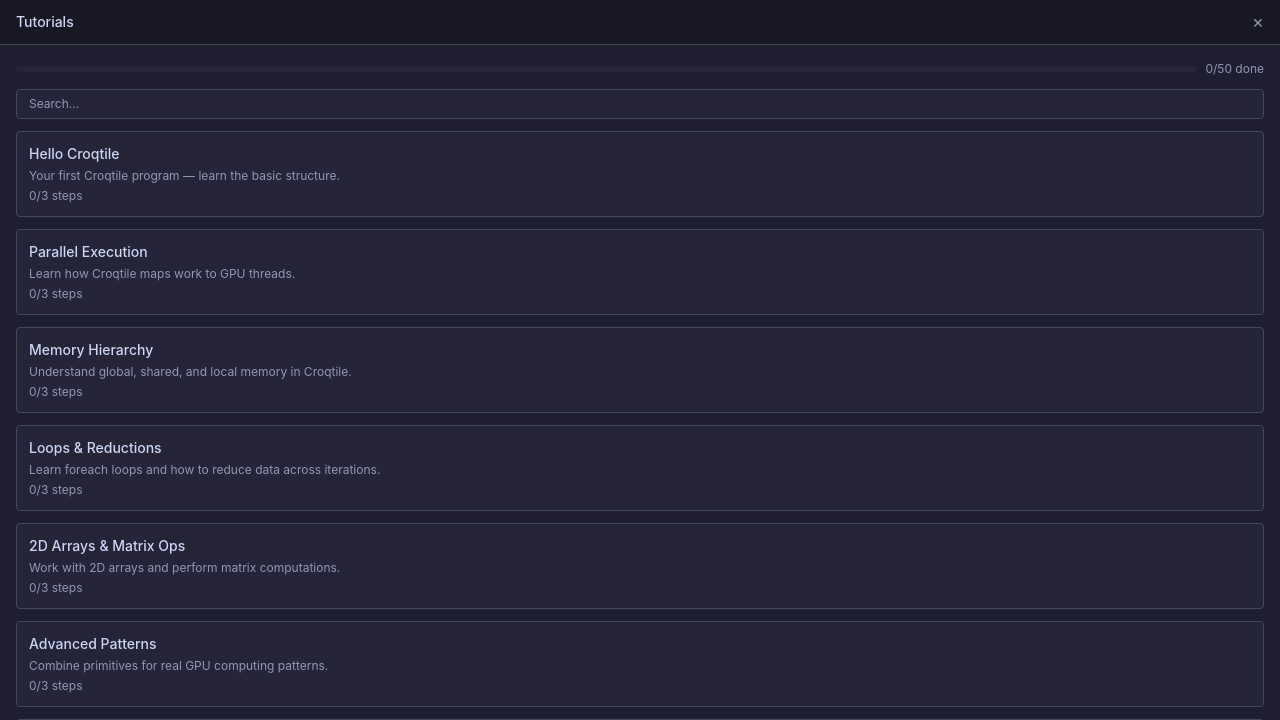
TutorialPanel › shows step navigation after selecting tutorial
Click the text "Hello Croqtile" at (74, 154), box 29,144 -> 120,164
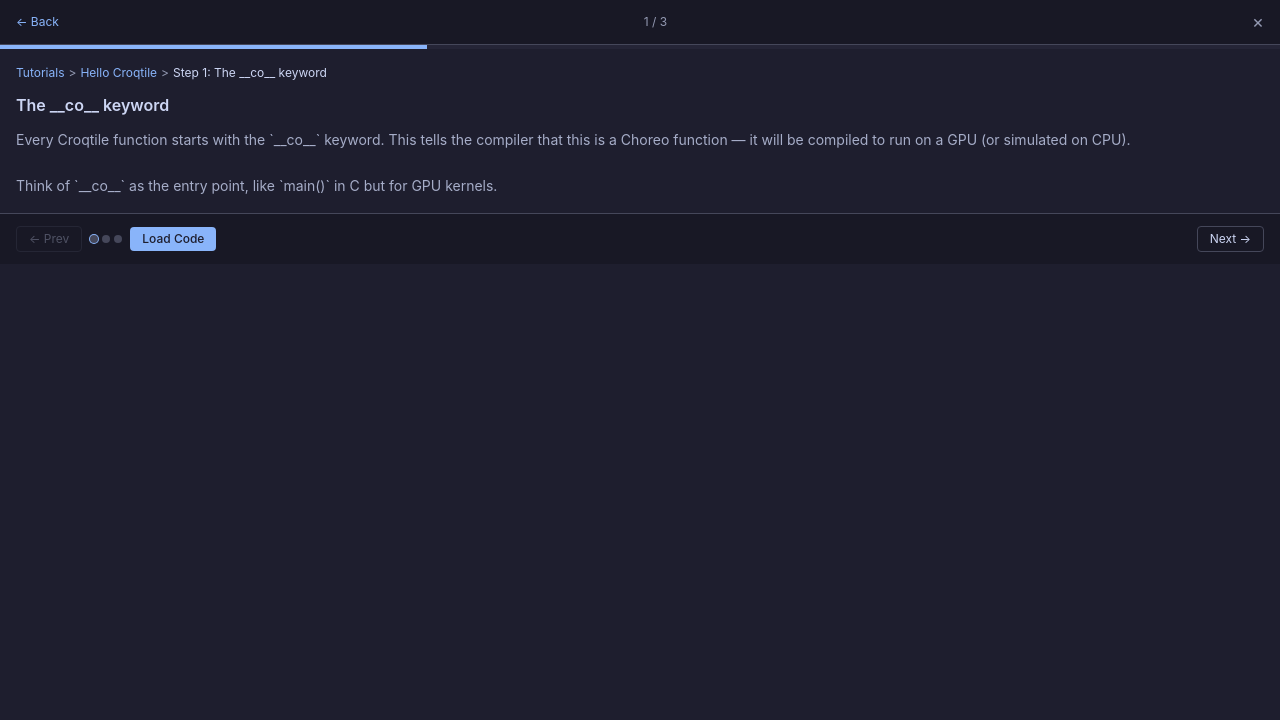
Expected: the button "← Back" is shown, 16,14 -> 59,30
Expected: the button "Load Code" is shown, 130,227 -> 216,251
Expected: the button "Next →" is shown, 1197,226 -> 1264,252
